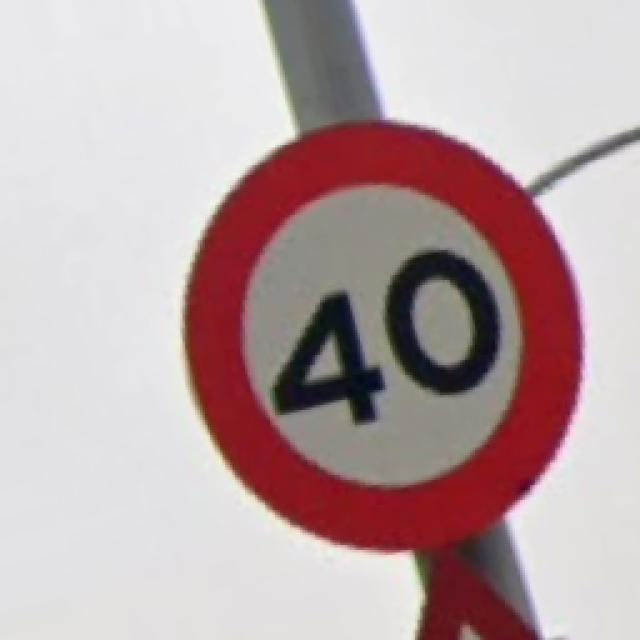Speed Limit -40-: (188, 125, 580, 548)
